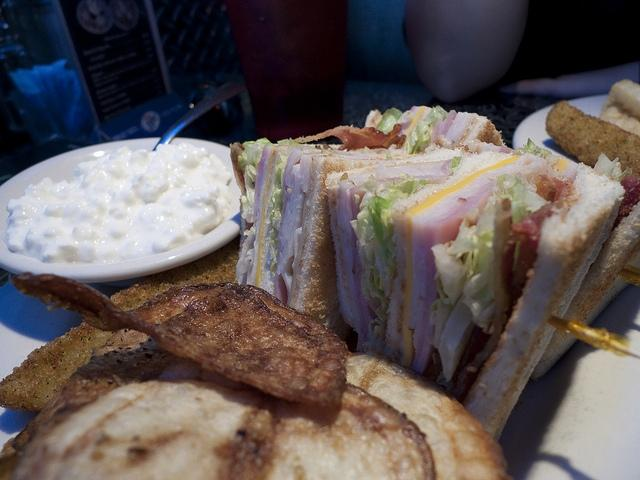lettuce: (446, 236, 480, 283), (367, 196, 392, 258), (594, 152, 632, 182), (356, 206, 376, 245), (509, 138, 552, 156), (376, 107, 402, 134), (380, 209, 395, 248), (415, 120, 431, 142), (236, 150, 248, 174), (274, 190, 284, 213), (272, 211, 282, 230), (248, 165, 256, 176), (274, 183, 282, 190)
